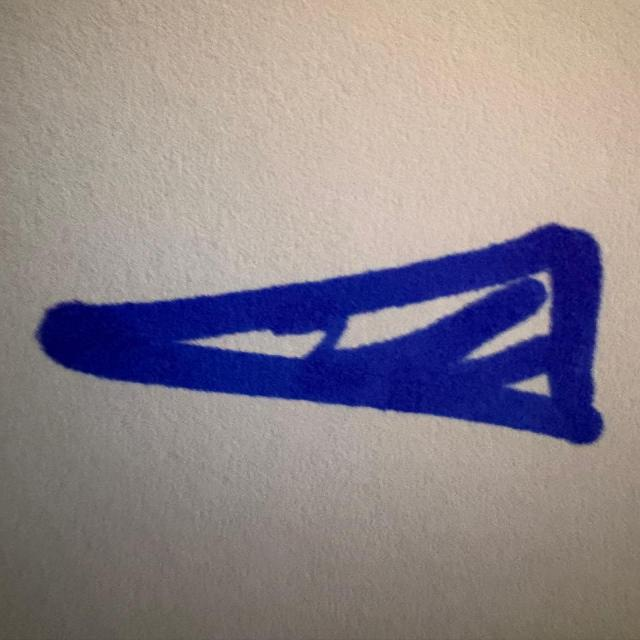Triangle: (34, 216, 610, 448)
